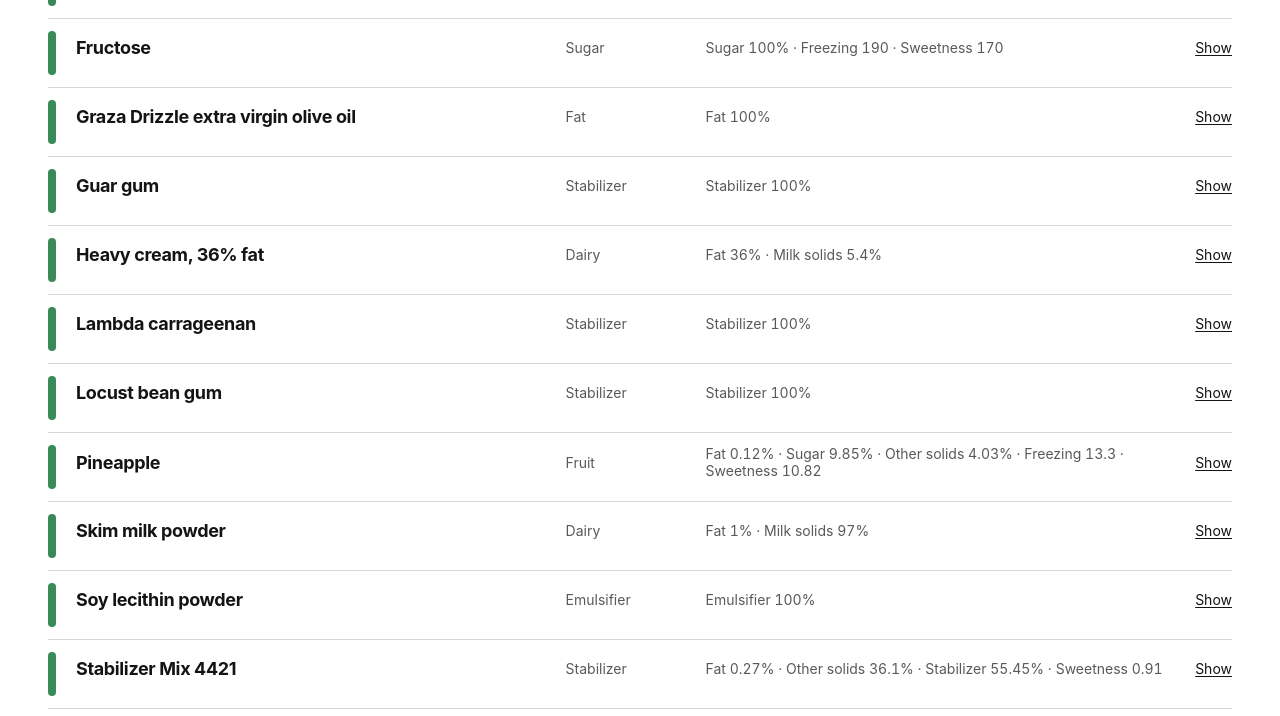
opening an entry › Locust bean gum: not recorded, the hydration facts line, no lactose line and no Note
(page scrolled)
Step 1. Click the button with class "ing__head" showing "Locust bean gum Show" → (149, 392), box [76,370,1232,414]
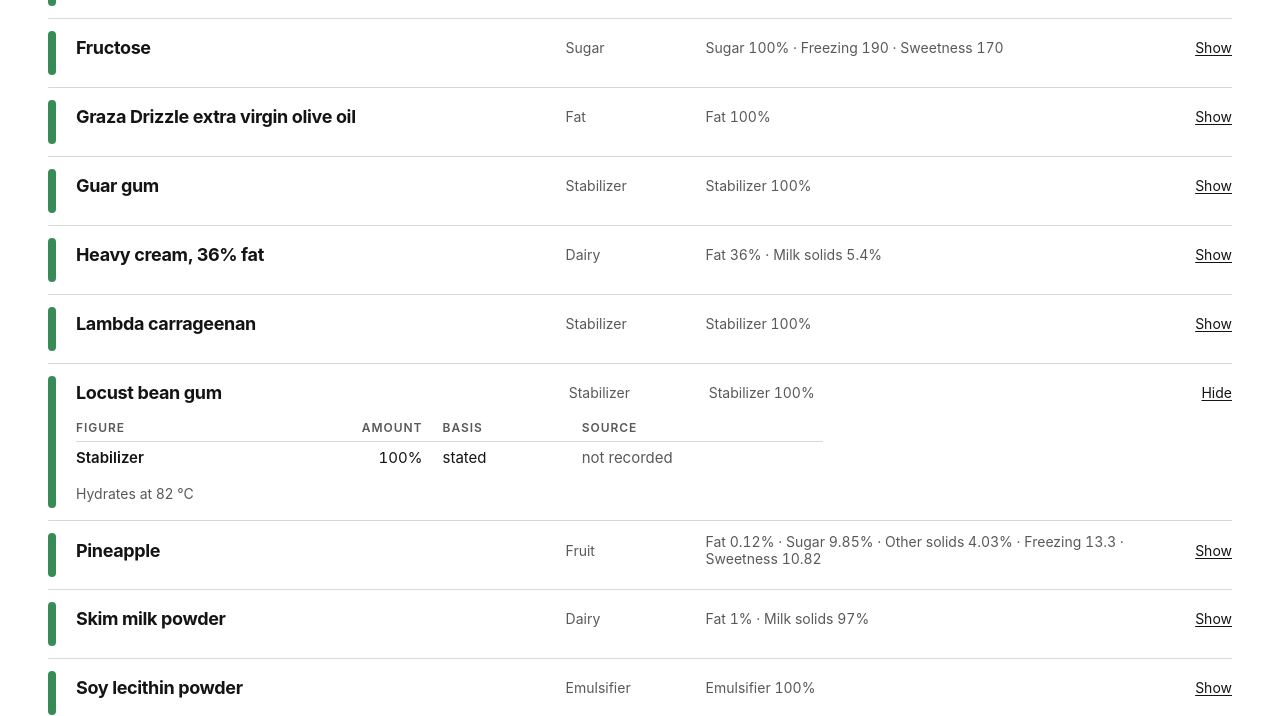
Check: the text with class "ing__facts" reads "Hydrates at 82 °C", box [76,485,194,502]
